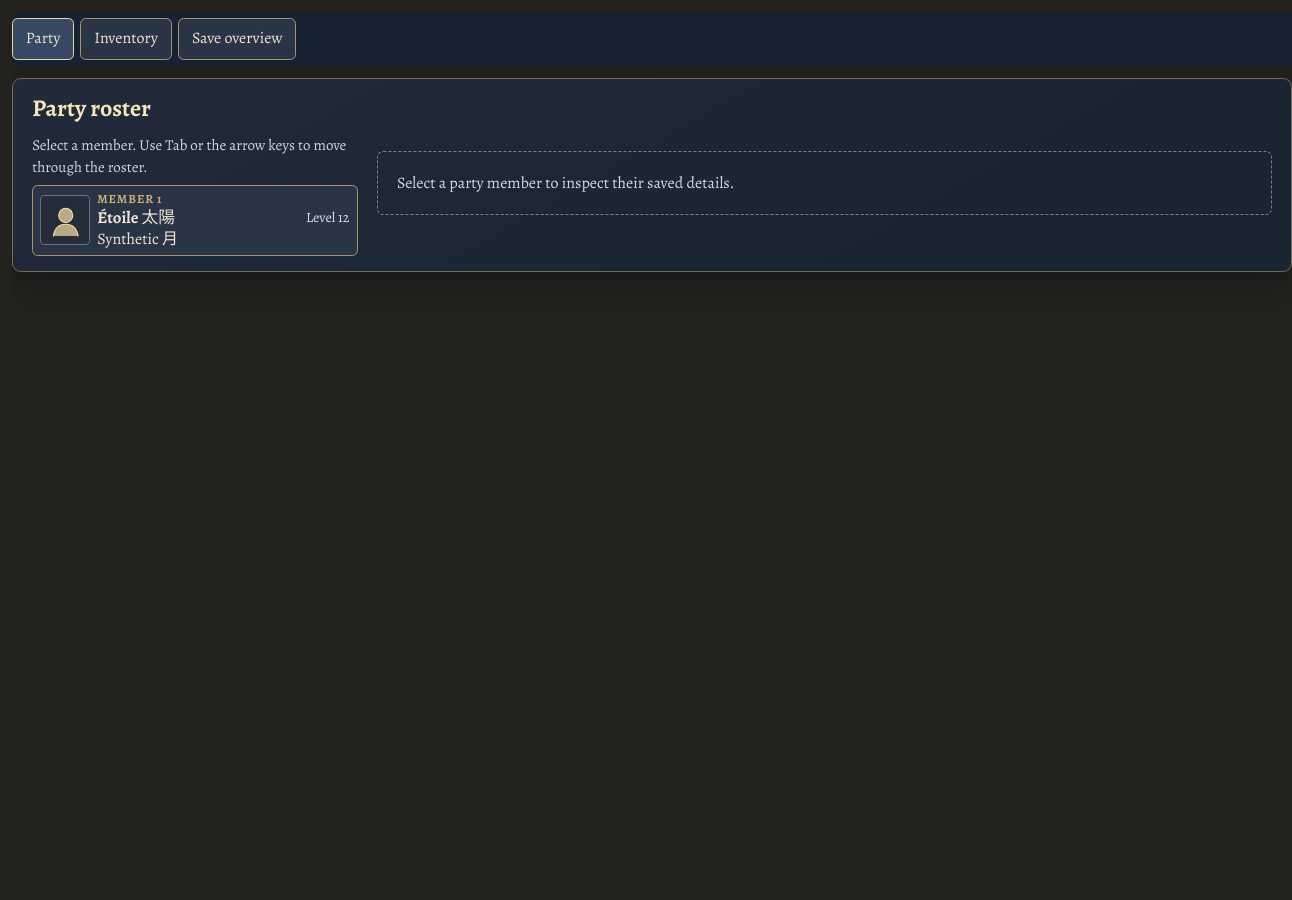
Test: selected unit detail tabs › tabs use arrow, Home and End focus with one selected panel and preserve Overview selectors
Click the button "Member 1 Étoile 太陽 Synthetic 月 Level 12".
click(65, 220)  # box [32,185,358,256]
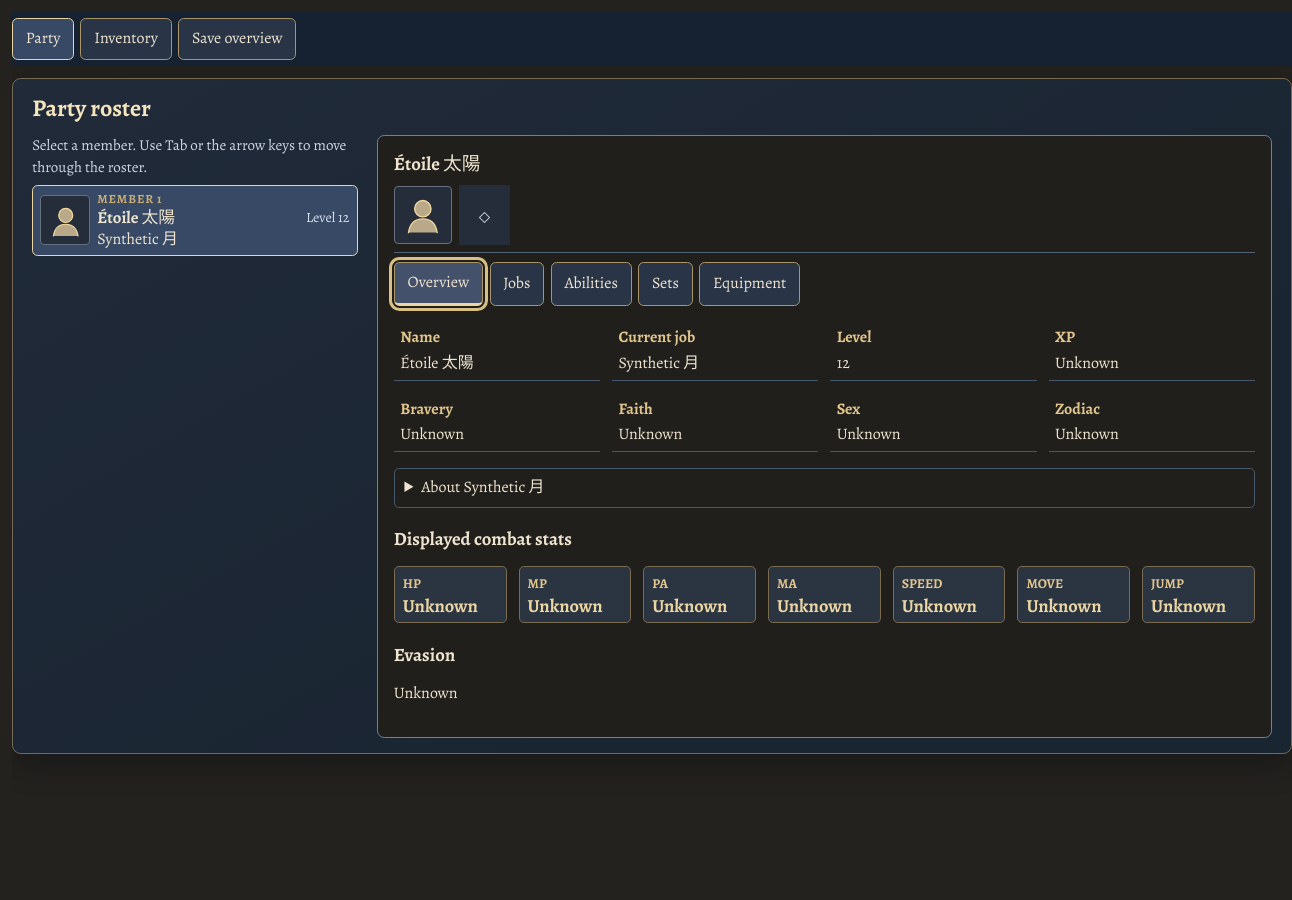
Expected: the 1st text "Étoile 太陽" is shown, [97,206,175,229]
Expected: the 1st text "Synthetic 月" is shown, [97,228,178,250]
Press ArrowRight in the tab "Overview", box [394,262,483,306]
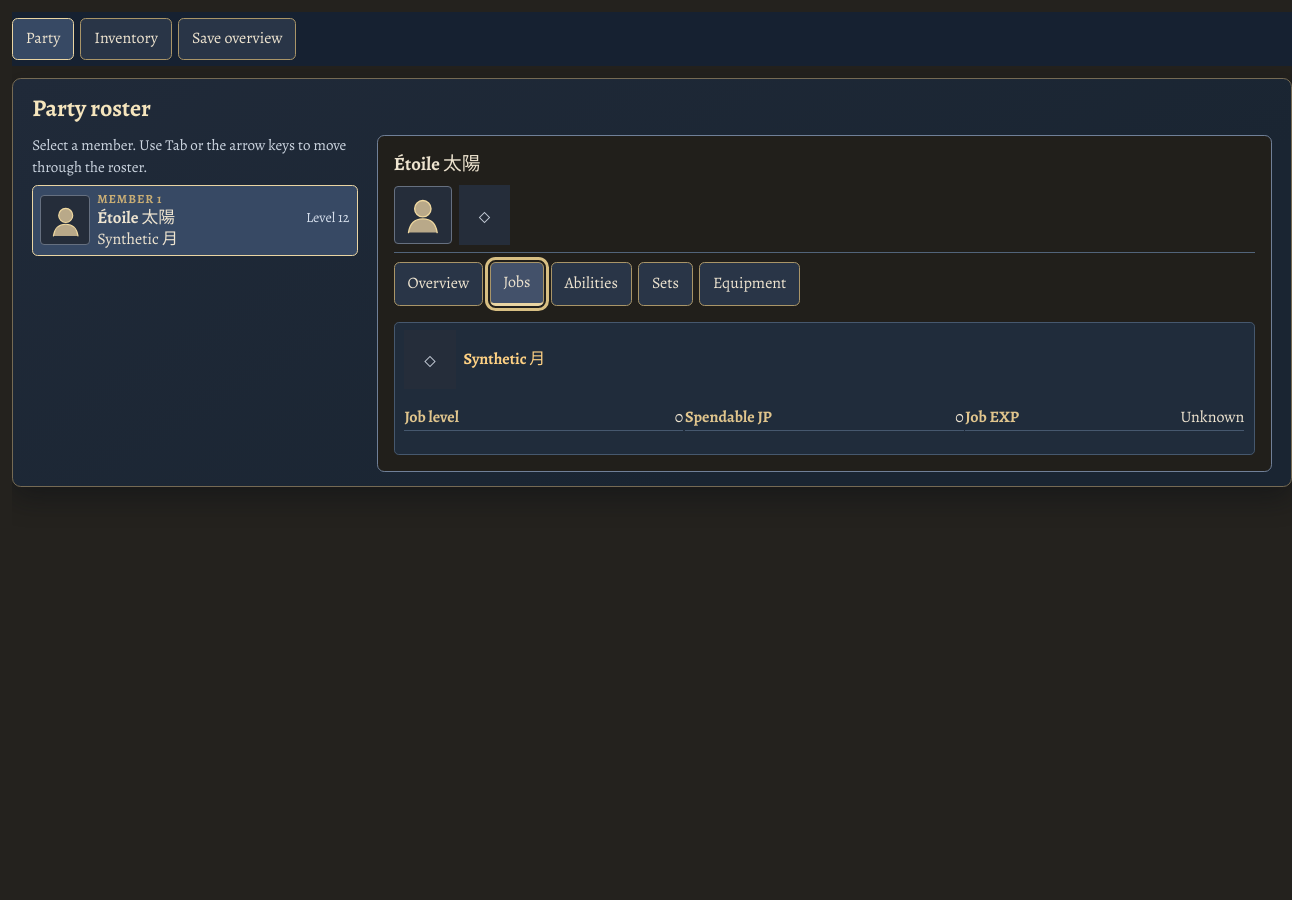
Press End in the tab "Jobs", box [490,262,544,306]
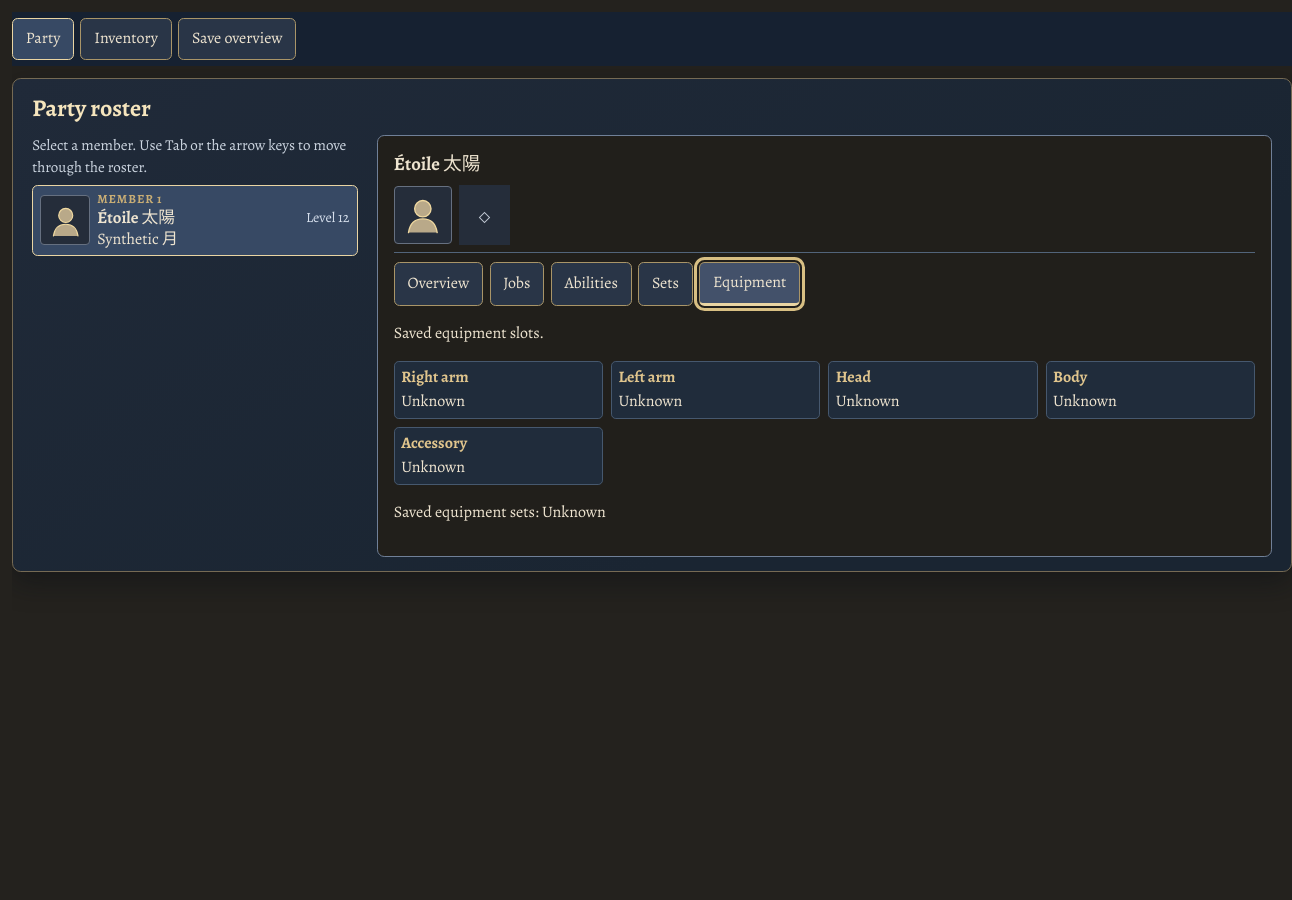
Press ArrowRight in the tab "Equipment", box [699,262,800,306]
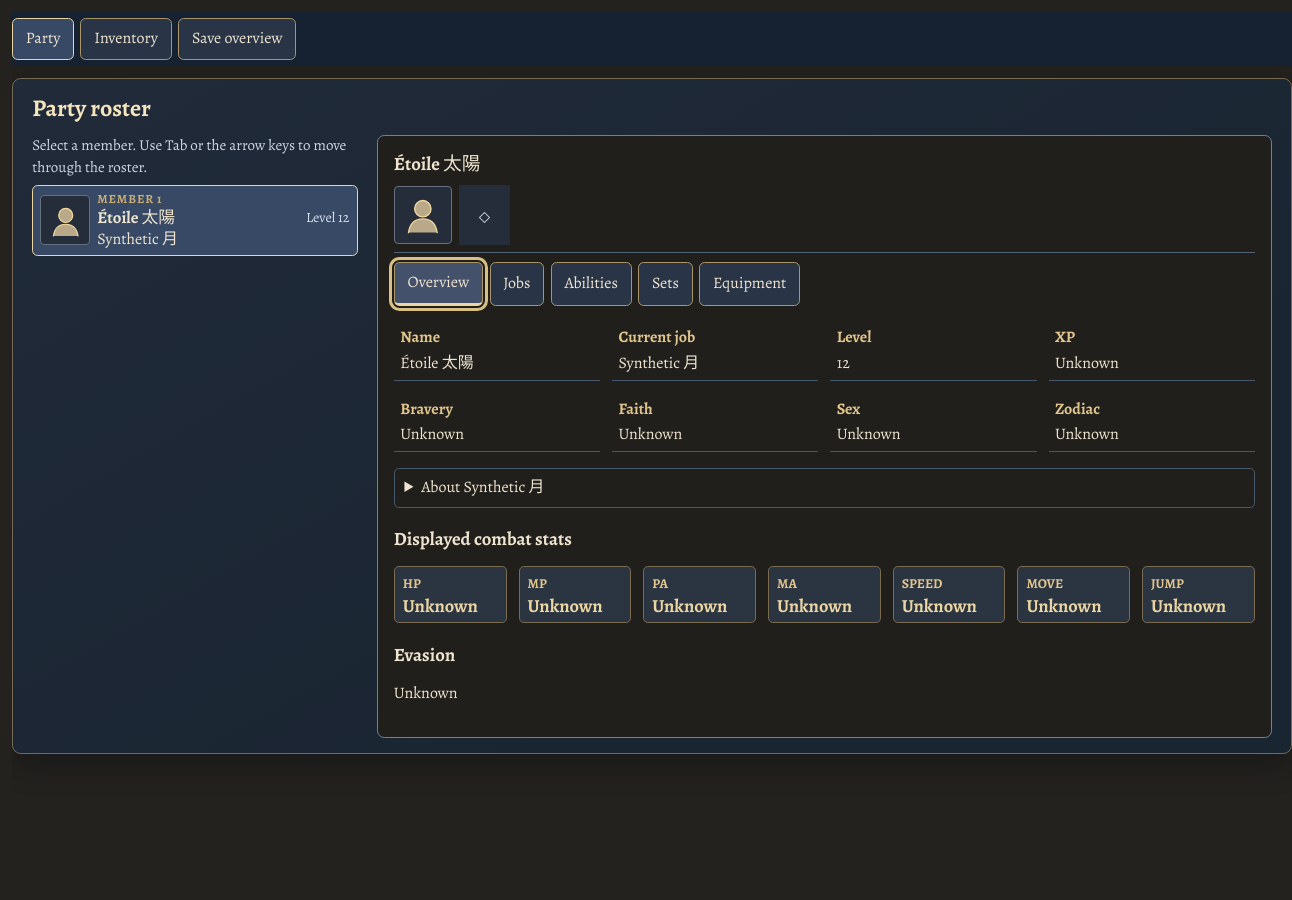
Press ArrowLeft in the tab "Overview", box [394,262,483,306]
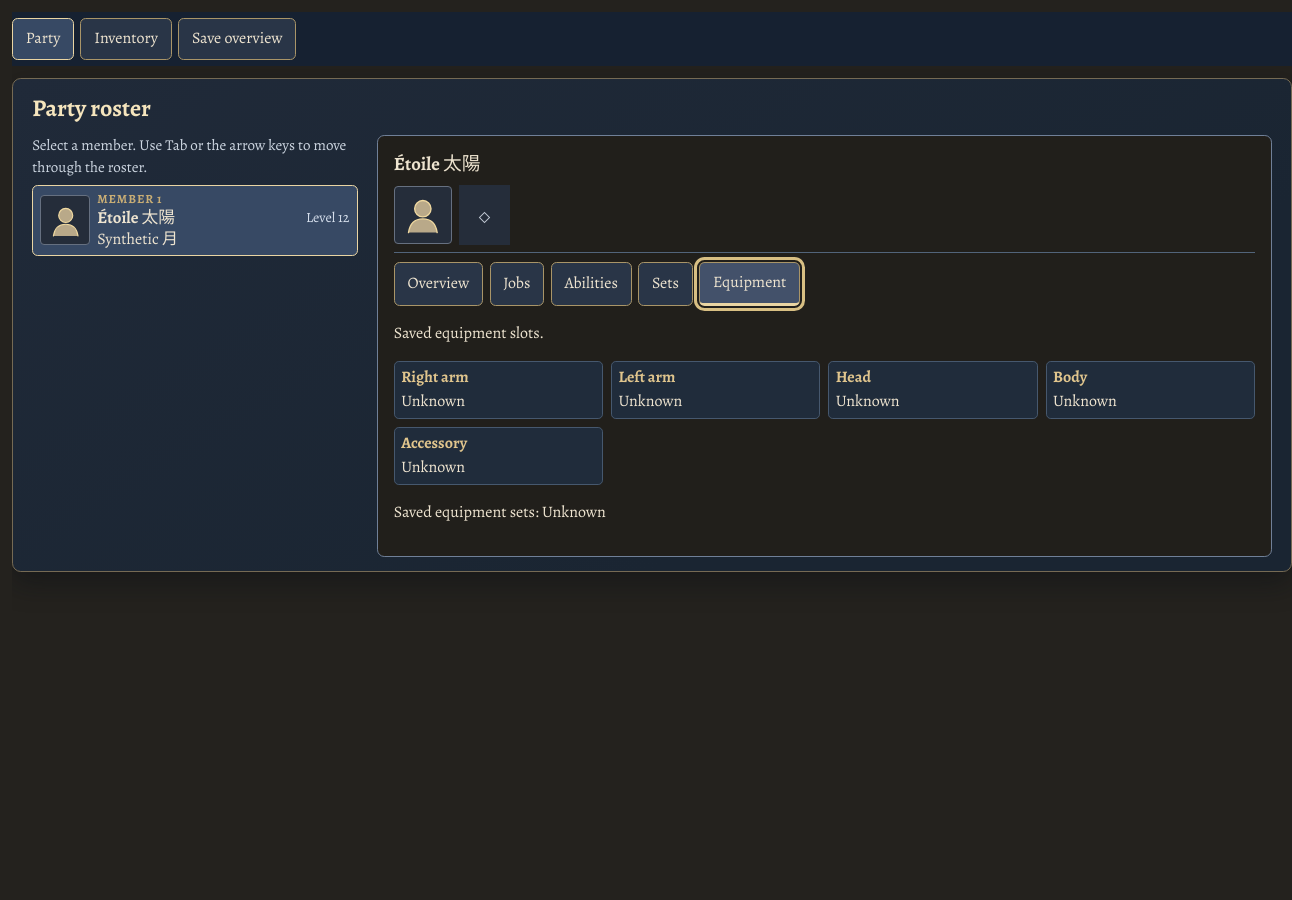
Press Home in the tab "Equipment", box [699,262,800,306]
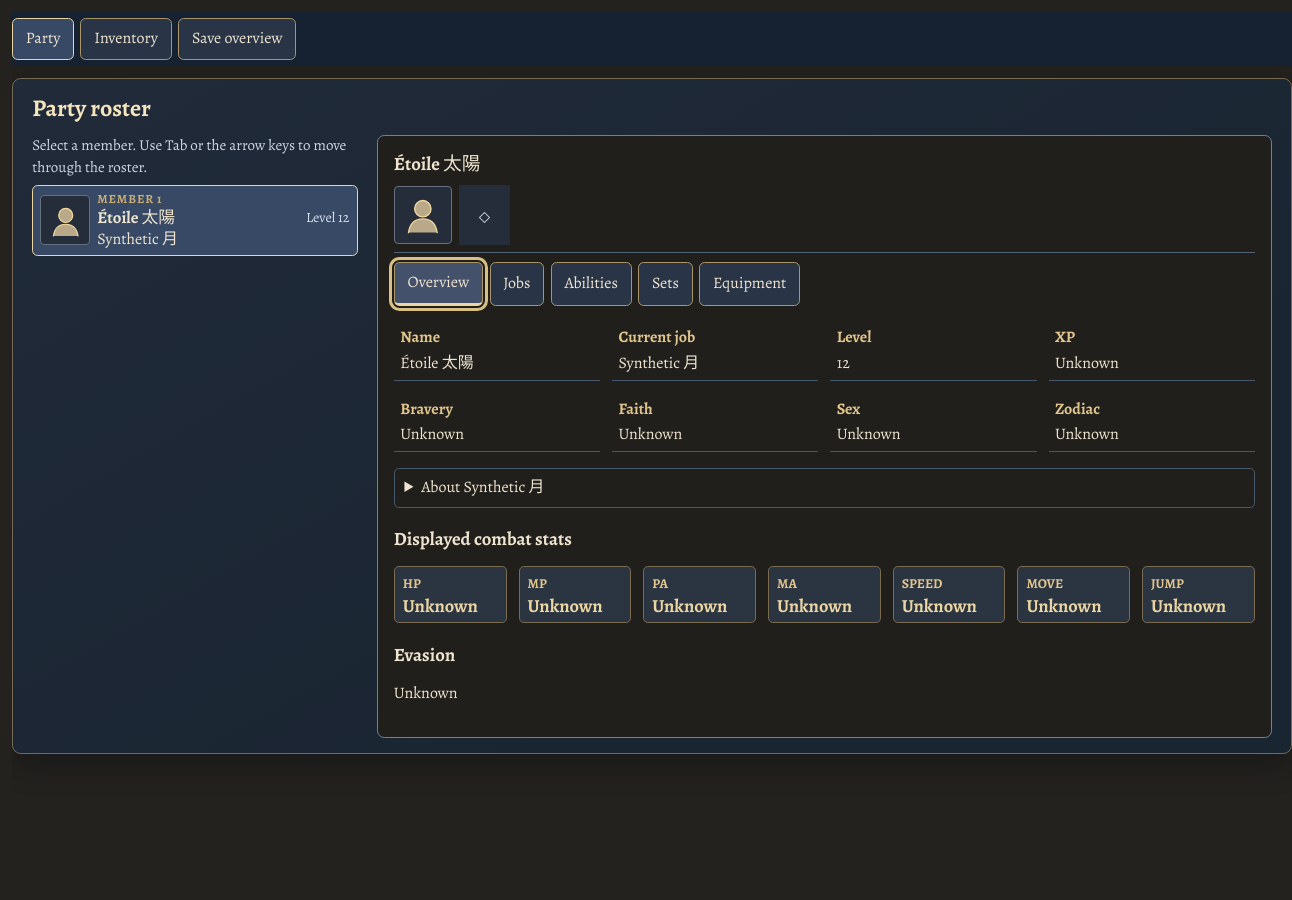
Expected: the number of panels is 1, [394,322,1255,705]
